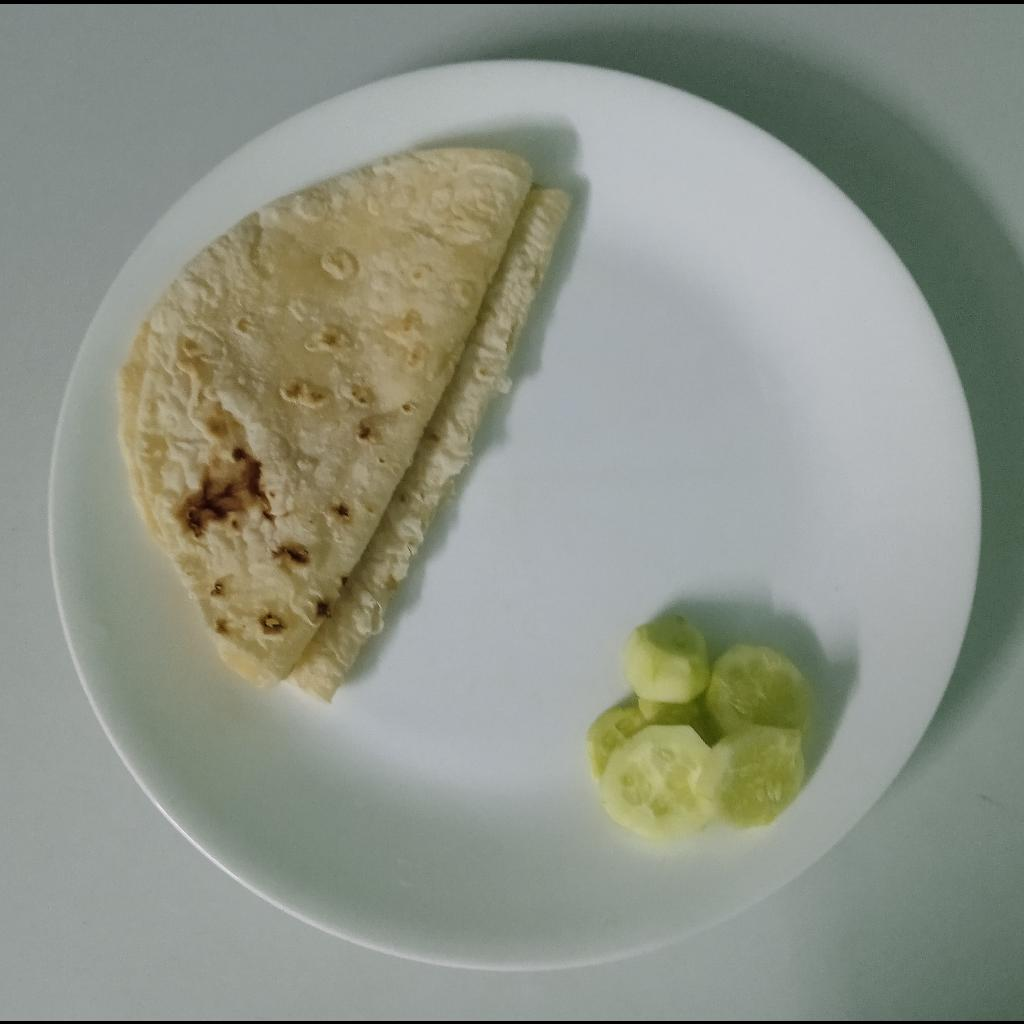cucumber: (585, 620, 809, 843)
ruti: (108, 143, 572, 709)
